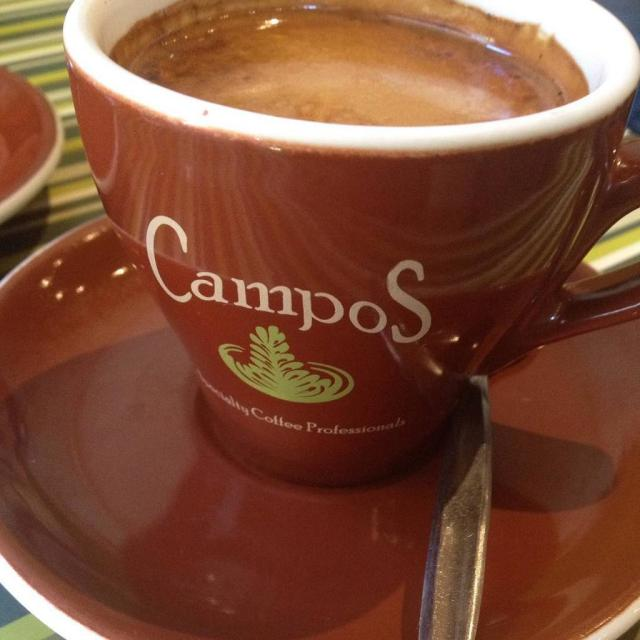Coffee: (110, 0, 590, 126)
Tea: (109, 0, 586, 129)
